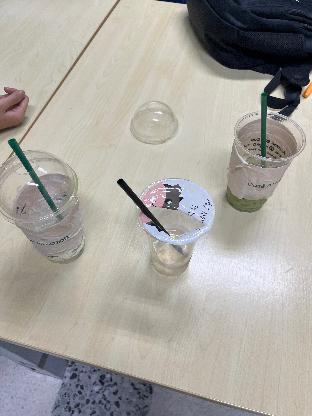Plastic Cup: (4, 156, 86, 272), (229, 110, 307, 222), (0, 144, 80, 228), (141, 178, 209, 272), (125, 96, 186, 148)
